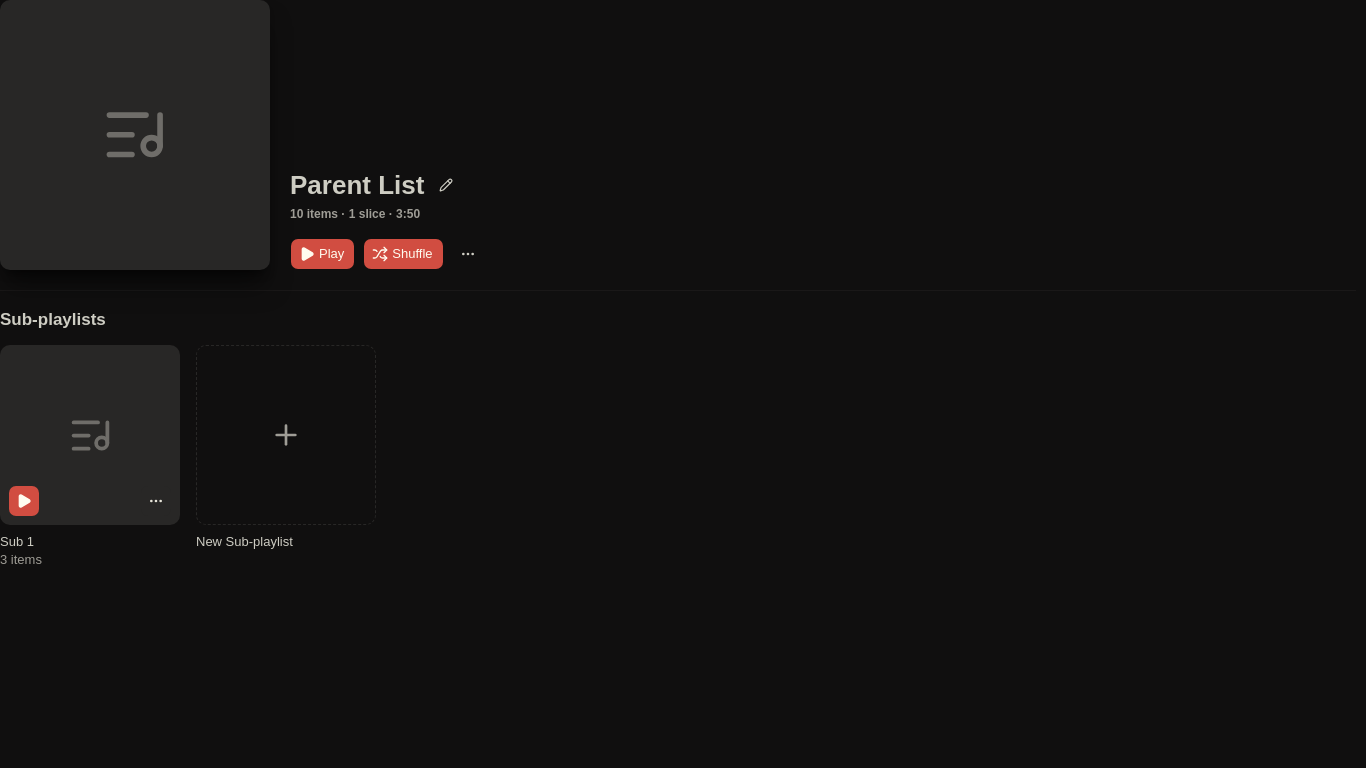
PlaylistHeader Component (TDD) › sub-playlists › starts a new sub-playlist of the playlist from its More menu
Click the button named "More actions for Parent List" at (468, 254), box [452,238,484,270]
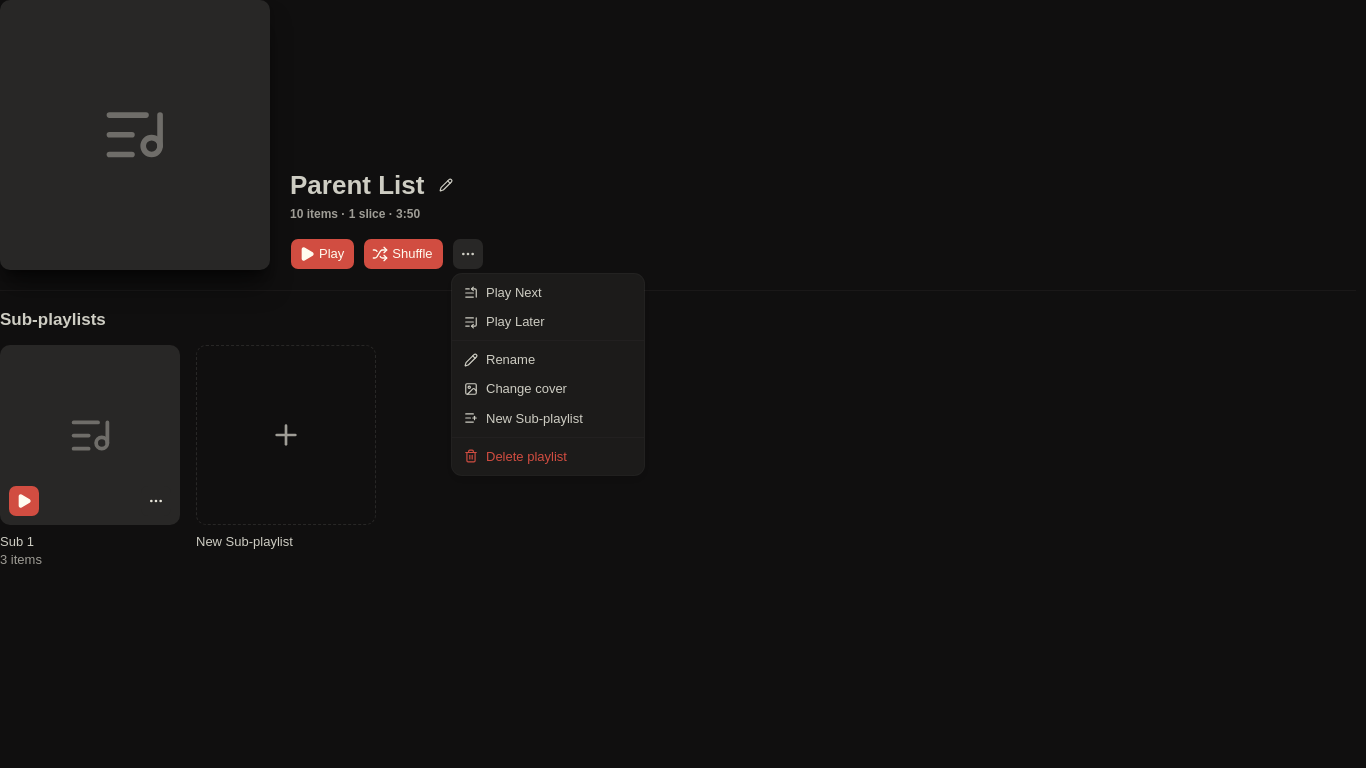
Click the menu item "New Sub-playlist" at (523, 418), box [464,410,583,426]
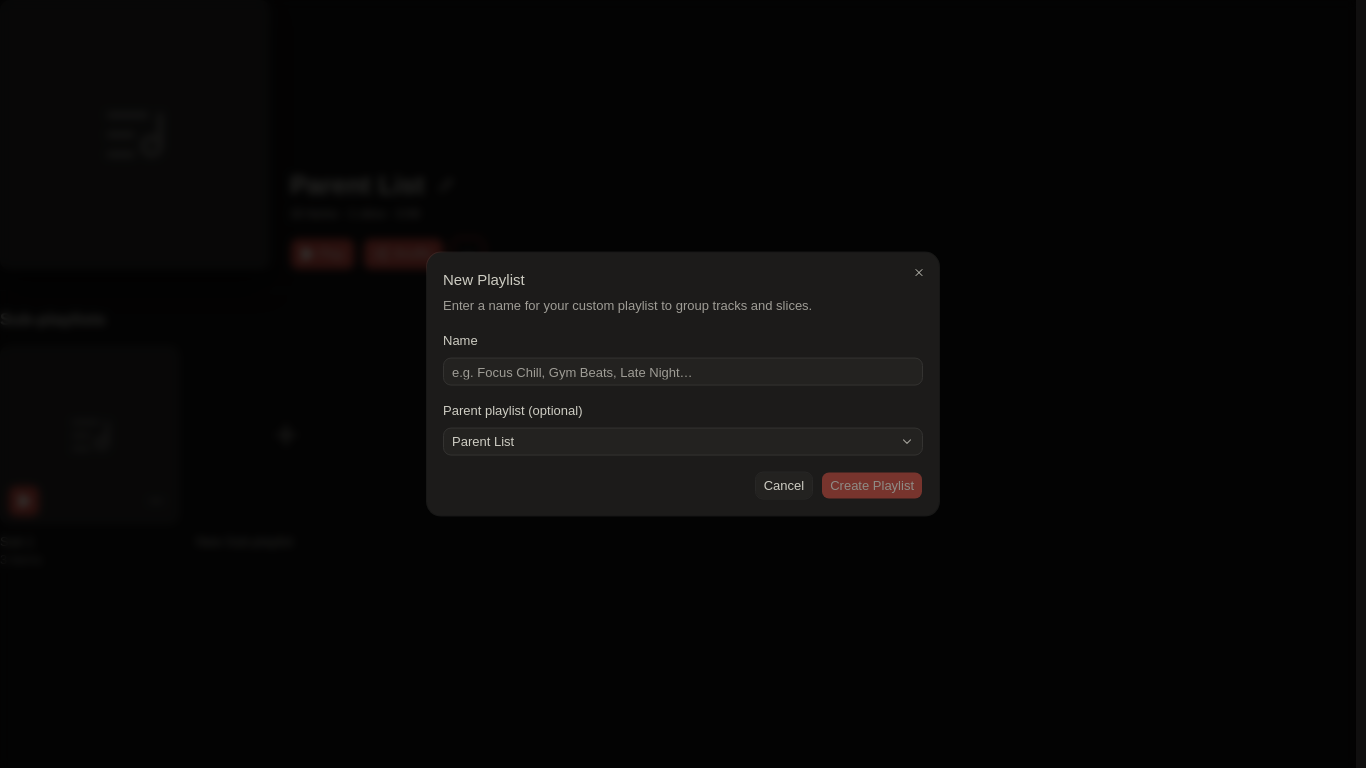
Check: the dropdown labelled "Parent List ▼" is shown, box [443,427,923,455]
